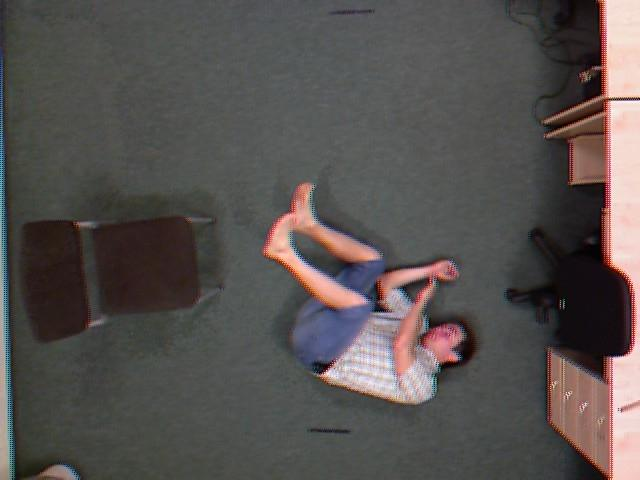fall: (268, 177, 481, 410)
